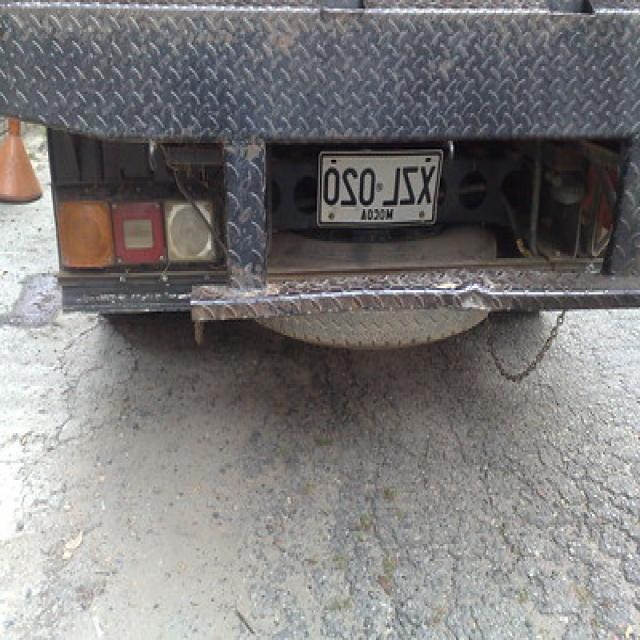placas: (319, 161, 435, 207)
